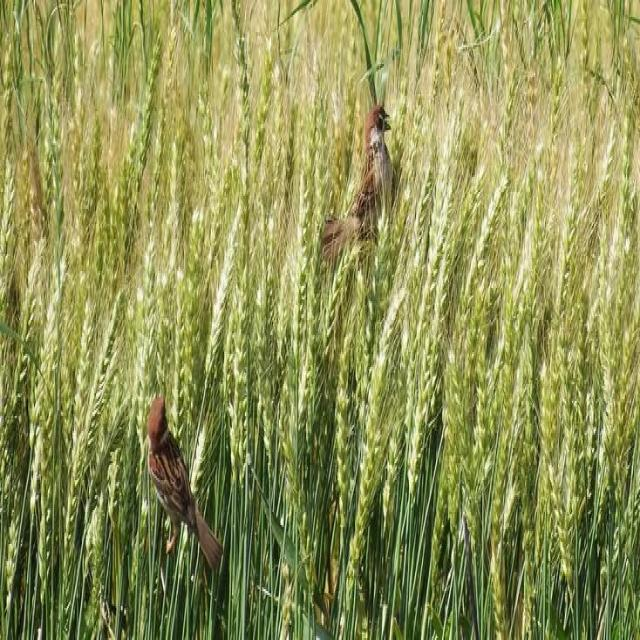bird: (317, 107, 397, 272), (146, 395, 220, 568)
